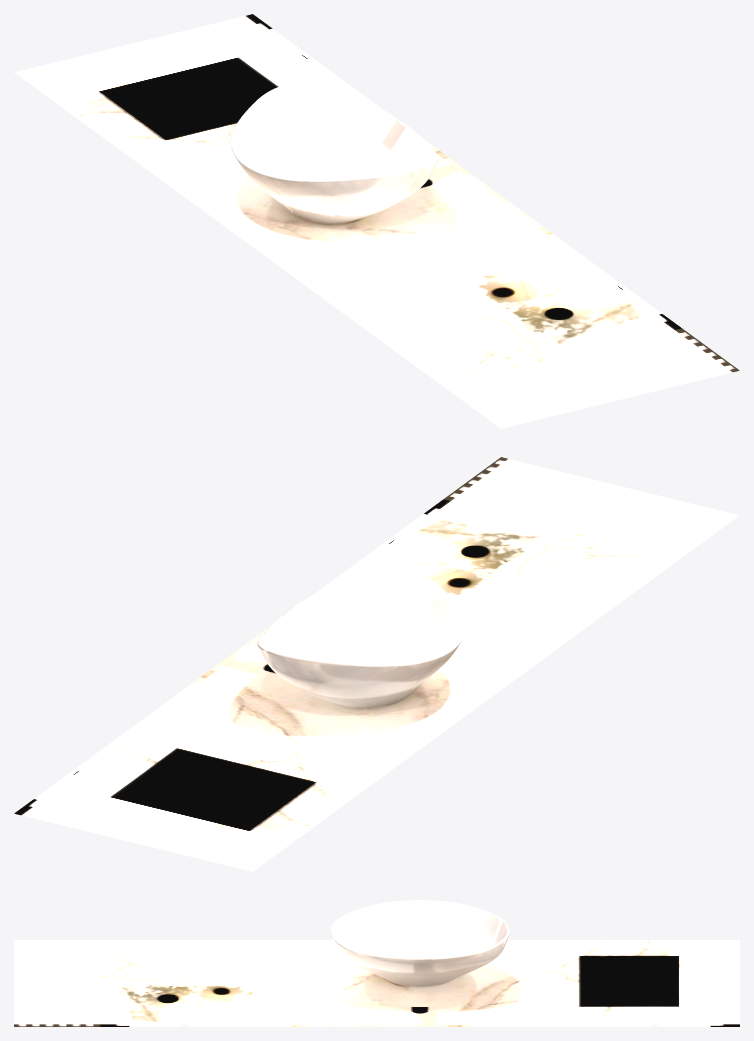
Rendered from Essence_WB_final.glb.
The picture shows the model from 3 angles, top to bottom: view 1: azimuth 30°, elevation 25°; view 2: azimuth 150°, elevation 25°; view 3: azimuth 270°, elevation 25°; orthographic projection. The views are drawn at different scales.
Parts seen in each view (by area): view 1: Essence_WB_final; view 2: Essence_WB_final; view 3: Essence_WB_final.
Part boxes in pixels (bbox=[...]): Essence_WB_final: bbox=[14, 14, 739, 428]; Essence_WB_final: bbox=[14, 457, 739, 871]; Essence_WB_final: bbox=[14, 900, 739, 1026].
Size of the model in its own units: 0.61 by 0.1794 by 2.15.
1 material, 1 textured.
